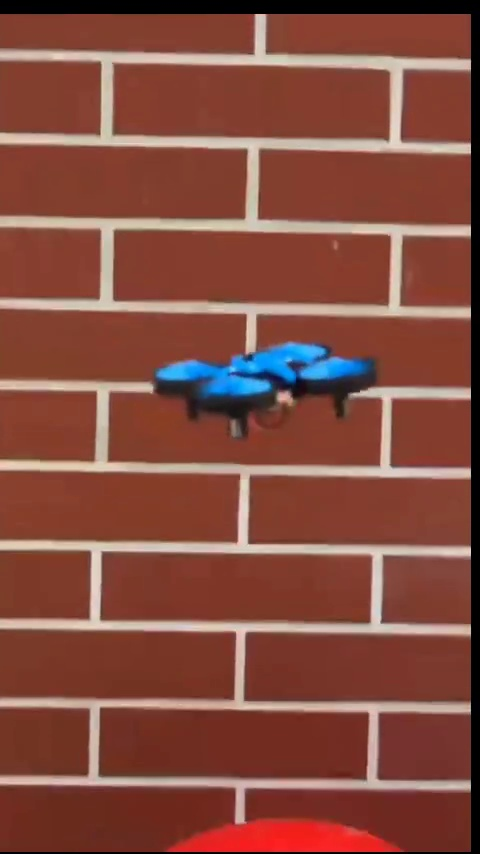drone: (162, 344, 374, 428)
